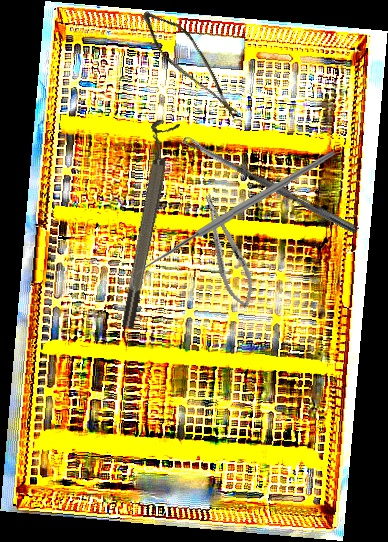Fixation Ring: (109, 118, 181, 330)
Hook Surgical: (128, 148, 338, 291)
Micro Scissor: (126, 4, 260, 120)
Needle Holder: (193, 189, 262, 313)
Surgical Spoon: (182, 134, 360, 235)
